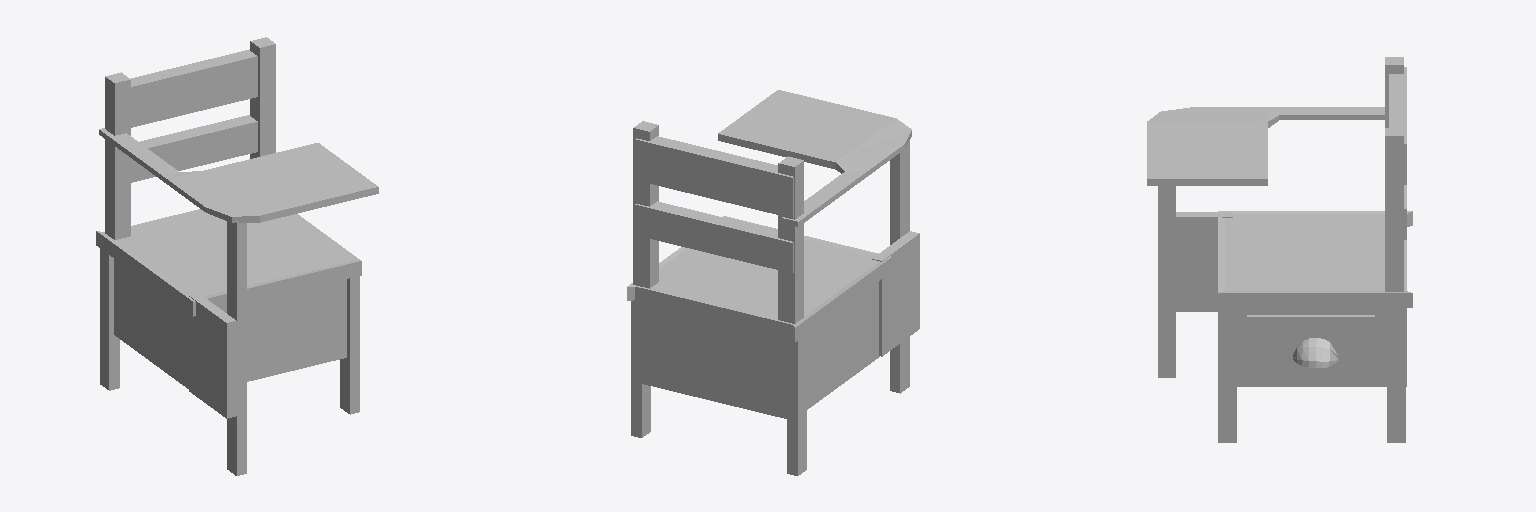
File: Kid_seat_school.obj
The picture shows the model from 3 angles: view 1: azimuth 30°, elevation 25°; view 2: azimuth 150°, elevation 25°; view 3: azimuth 270°, elevation 25°; orthographic projection.
Visible parts, largest first — view 1: pCube1 group1, group1 pCube6, group1 pCube10, group1 pCube4, group1 pCube5, group1 pCube3, group1 pCube2, group1 pCube9, group1 pCube7; view 2: pCube1 group1, group1 pCube6, group1 pCube4, group1 pCube10, group1 pCube5, group1 pCube3, group1 pCube2, group1 pCube9, group1 pCube8; view 3: pCube1 group1, group1 pCube6, group1 pCube10, group1 pCube11, group1 pCube2, group1 pCube7, group1 pCube8, group1 pSphere1, group1 pCube4, group1 pCube3.
Part boxes in pixels (left/top/right/bottom): pCube1 group1: left=96, top=209, right=361, bottom=388; group1 pCube6: left=99, top=128, right=378, bottom=222; group1 pCube10: left=189, top=221, right=246, bottom=475; group1 pCube4: left=131, top=49, right=257, bottom=127; group1 pCube5: left=131, top=115, right=257, bottom=182; group1 pCube3: left=105, top=72, right=130, bottom=239; group1 pCube2: left=250, top=37, right=275, bottom=158; group1 pCube9: left=100, top=249, right=119, bottom=390; group1 pCube7: left=340, top=275, right=359, bottom=414; pCube1 group1: left=627, top=216, right=891, bottom=420; group1 pCube6: left=718, top=90, right=911, bottom=226; group1 pCube4: left=635, top=136, right=793, bottom=218; group1 pCube10: left=872, top=140, right=919, bottom=393; group1 pCube5: left=635, top=201, right=793, bottom=273; group1 pCube3: left=778, top=156, right=803, bottom=323; group1 pCube2: left=633, top=121, right=658, bottom=288; group1 pCube9: left=787, top=334, right=806, bottom=475; group1 pCube8: left=631, top=300, right=650, bottom=437; pCube1 group1: left=1218, top=211, right=1412, bottom=386; group1 pCube6: left=1147, top=107, right=1384, bottom=185; group1 pCube10: left=1158, top=186, right=1232, bottom=377; group1 pCube11: left=1247, top=315, right=1374, bottom=380; group1 pCube2: left=1385, top=128, right=1403, bottom=291; group1 pCube7: left=1218, top=308, right=1236, bottom=442; group1 pCube8: left=1387, top=308, right=1405, bottom=442; group1 pSphere1: left=1291, top=333, right=1339, bottom=367; group1 pCube4: left=1389, top=67, right=1406, bottom=184; group1 pCube3: left=1385, top=57, right=1403, bottom=127.
Bounding box in the file's own units: 1.19 × 1.89 × 1.46.